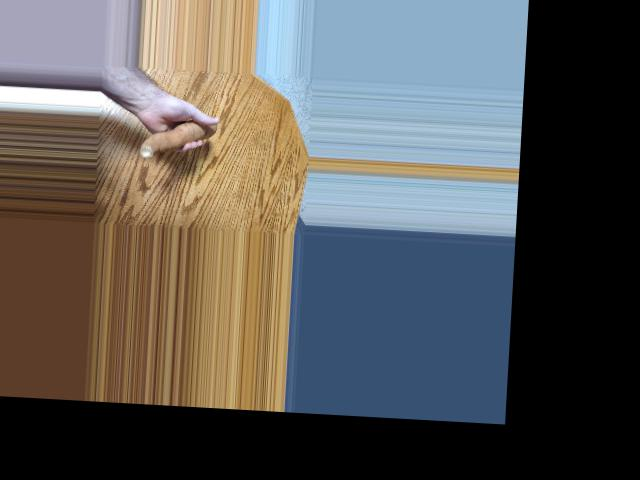sweet_potato: (136, 115, 215, 160)
